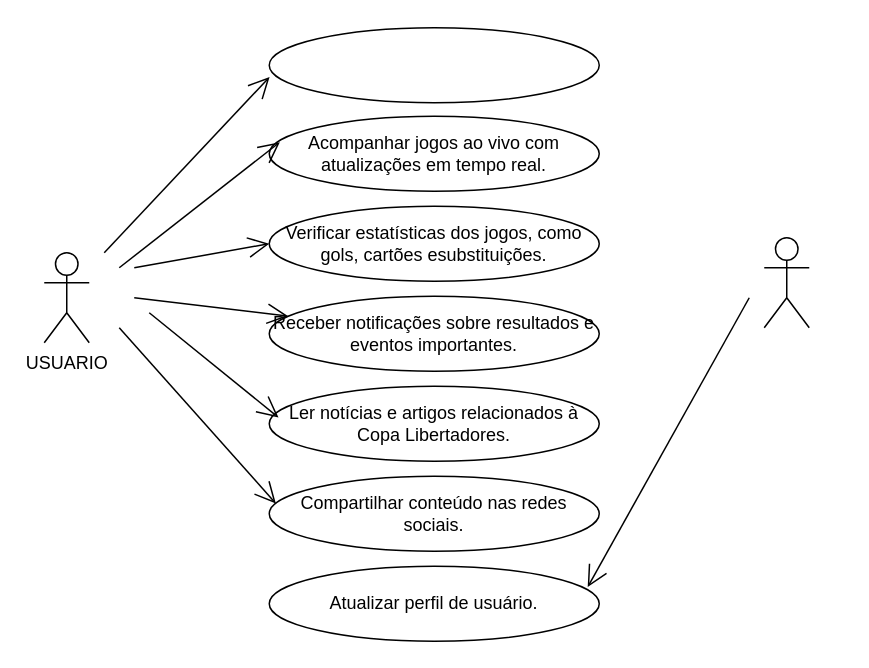
Some shapes in this 869 by 668 pixel diagram are drawn without their labels. The centre of each missing label's shape, as x and y in pixels:
"ADM DO APP" goes at (x=786, y=282).
"Visualizar informações sobre os times participantes." goes at (x=433, y=64).
